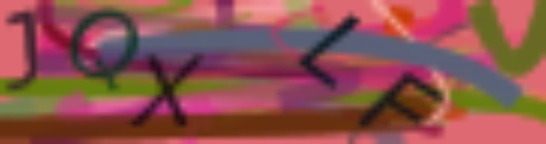F: (356, 70, 448, 133)
J: (5, 10, 42, 92)
L: (296, 11, 363, 89)
Q: (68, 8, 144, 92)
X: (124, 49, 207, 131)
